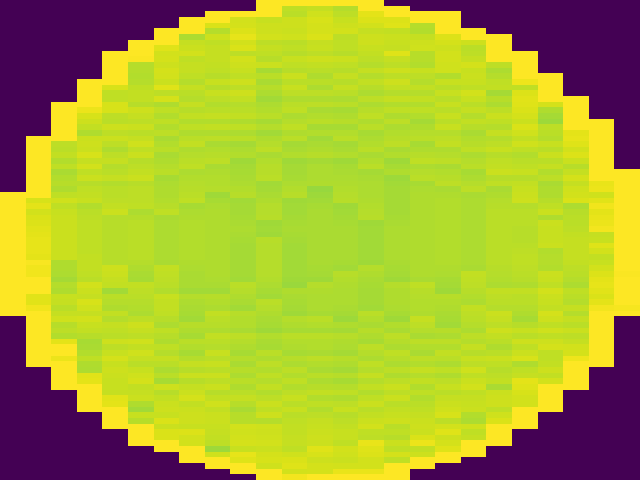sphere: (1, 1, 640, 480)
